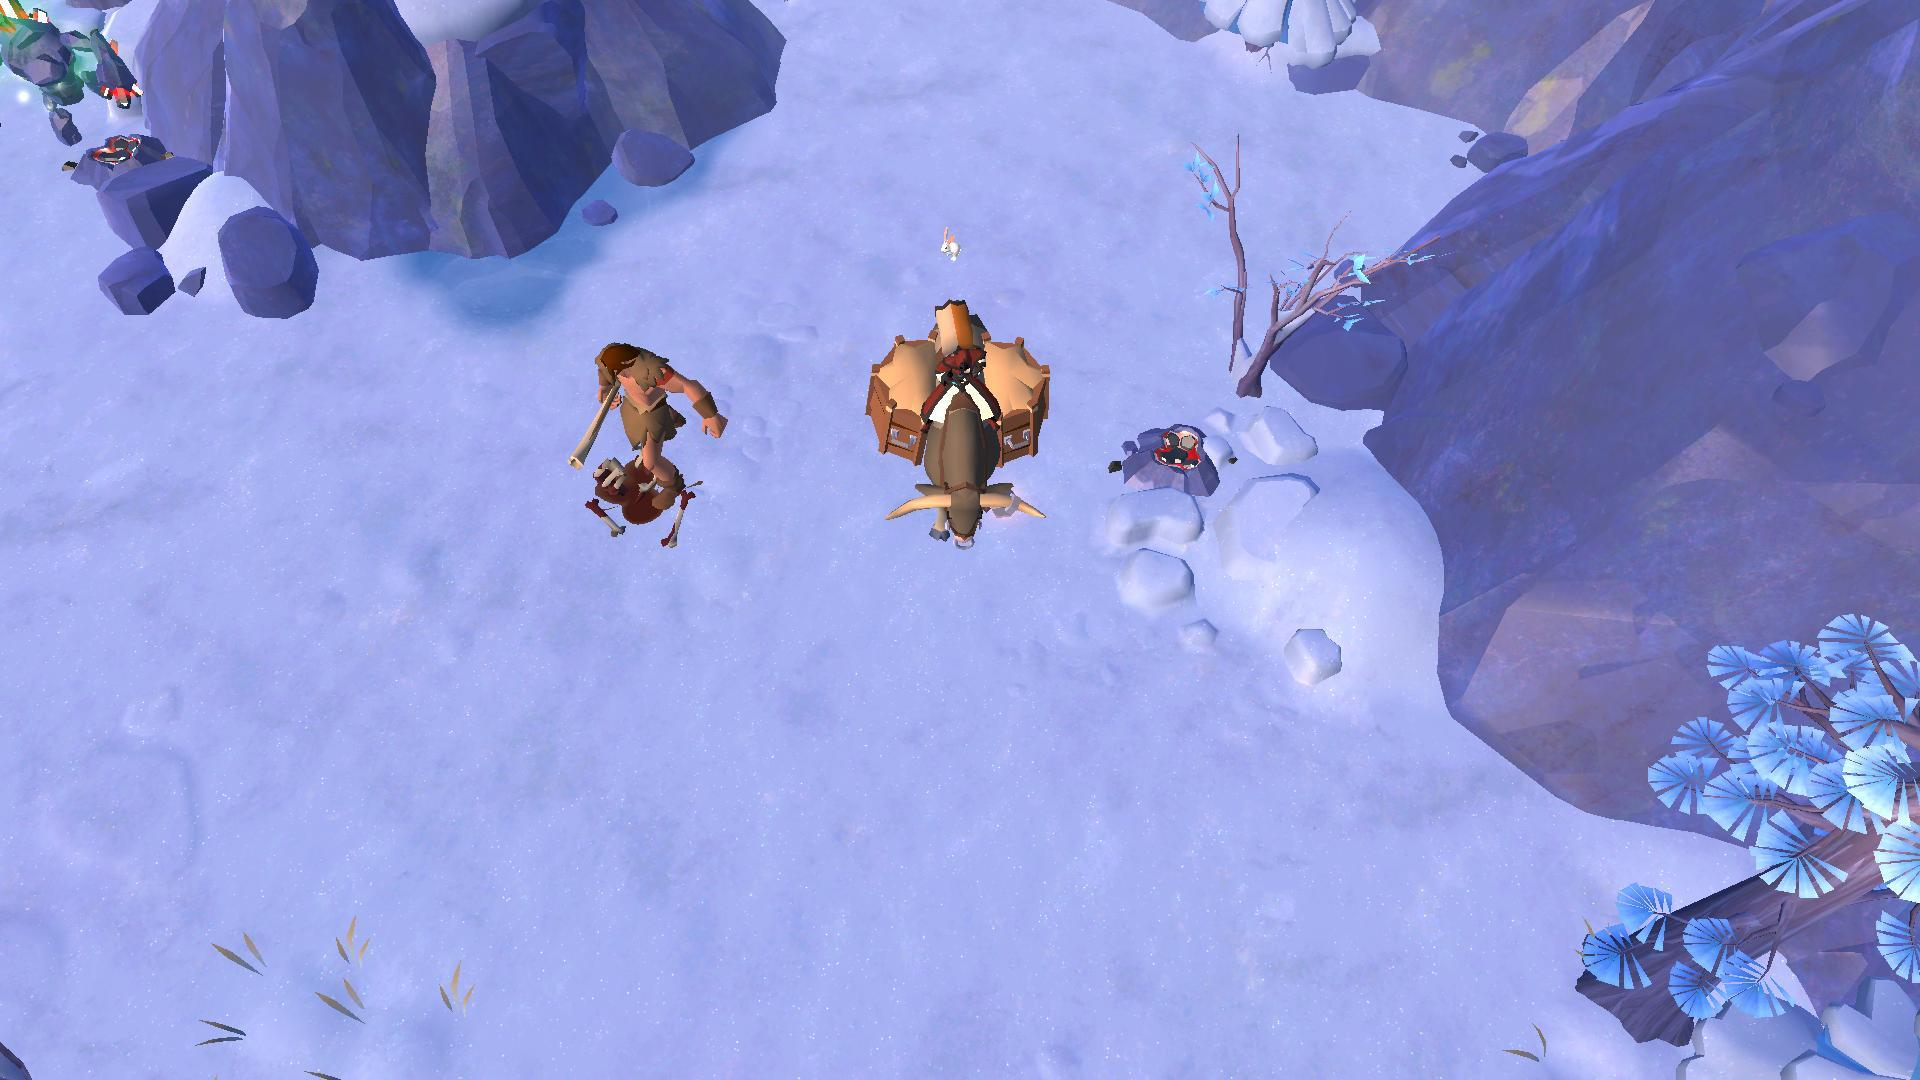enemy_factionKeeper: (578, 334, 725, 501)
